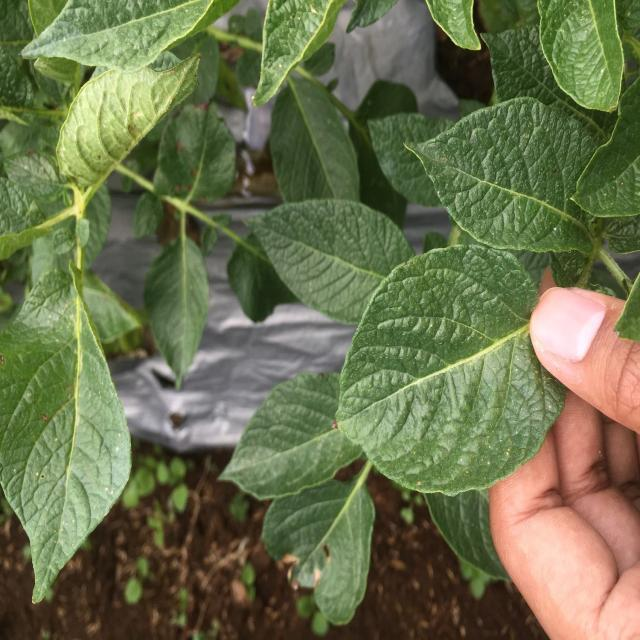healthy: (333, 242, 568, 499)
